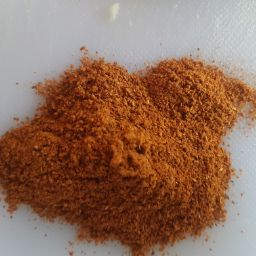Garam masala: (59, 43, 256, 256), (3, 78, 173, 253), (31, 124, 248, 251), (91, 74, 199, 210)
